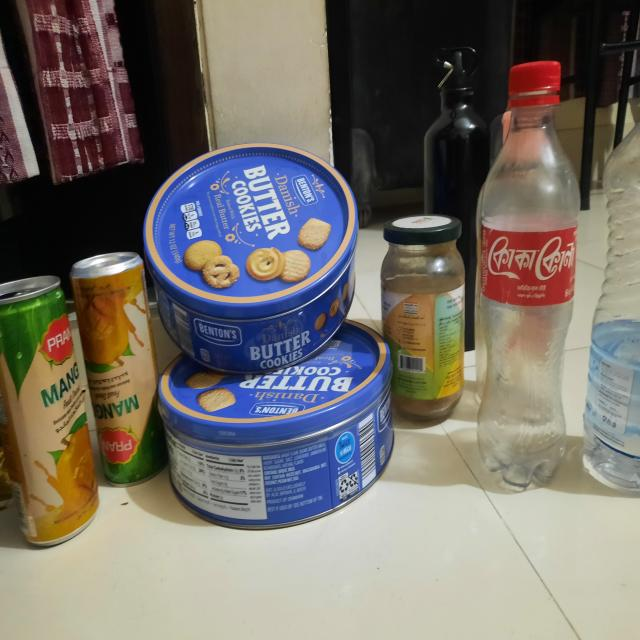Glass: (386, 257, 482, 416)
Plastics: (482, 88, 640, 496)
can: (144, 139, 388, 524), (1, 262, 158, 538)
